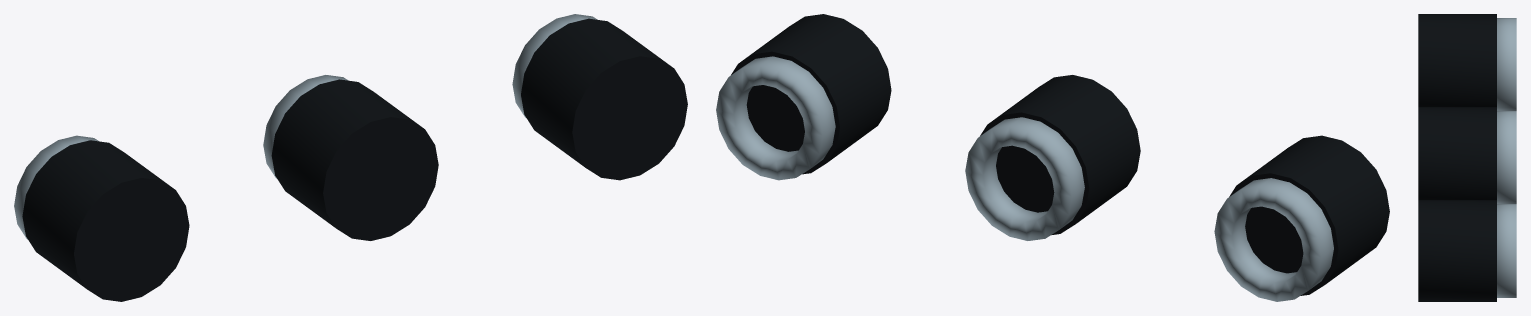
The model's file is compute_ports_concept.dae.
The picture shows the model from 3 angles, left to right: view 1: azimuth 30°, elevation 25°; view 2: azimuth 150°, elevation 25°; view 3: azimuth 270°, elevation 25°; orthographic projection. The views are drawn at different scales.
Parts seen in each view (by area): view 1: node0, node1; view 2: node0, node1; view 3: node0, node1.
Part boxes in pixels (x1,y1,x2,y2): node0: [22, 18, 687, 301]; node1: [14, 14, 597, 239]; node0: [731, 14, 1389, 295]; node1: [716, 56, 1333, 301]; node0: [1418, 14, 1496, 301]; node1: [1497, 18, 1516, 297].
Size of the model in its own units: 0.138 by 0.025 by 0.0256.
